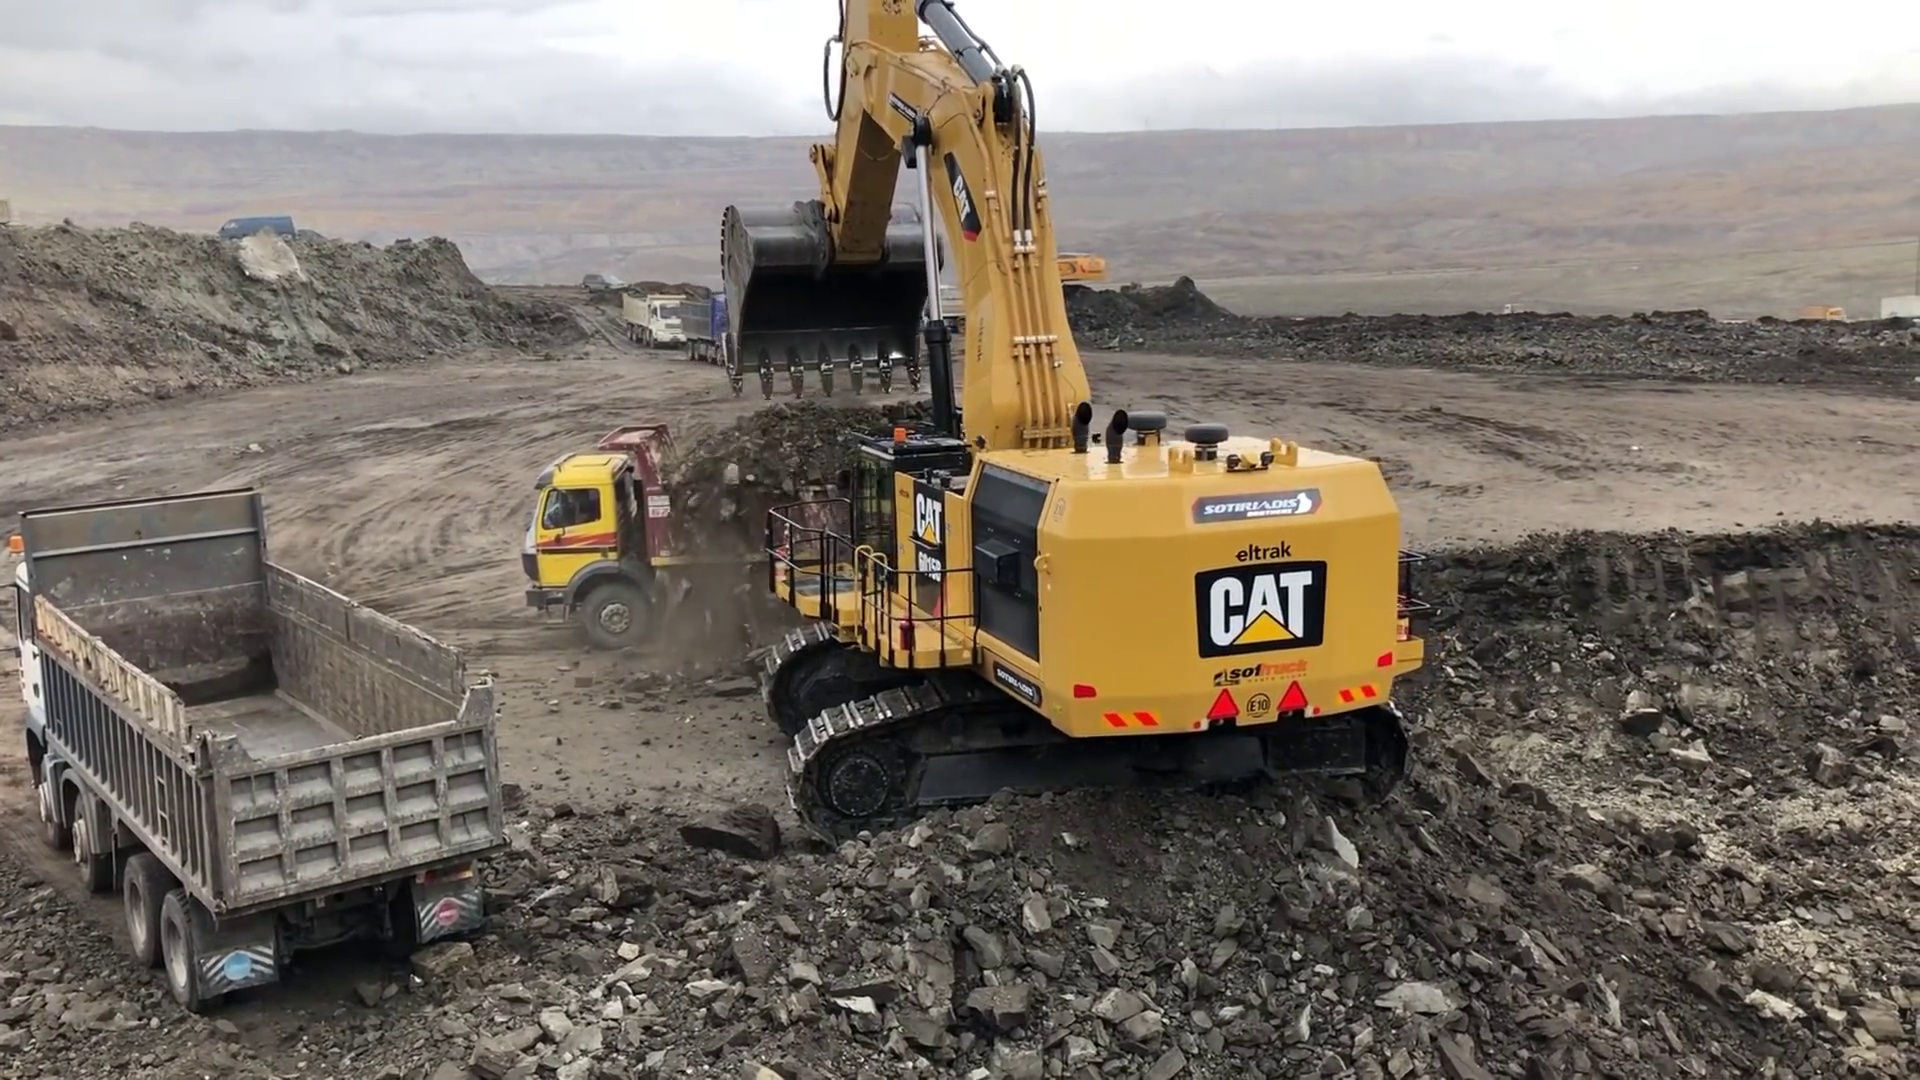excavator: (717, 1, 1437, 836)
truck: (9, 487, 496, 1010), (518, 414, 1010, 655), (618, 289, 692, 344), (684, 289, 741, 353), (218, 210, 295, 244)
